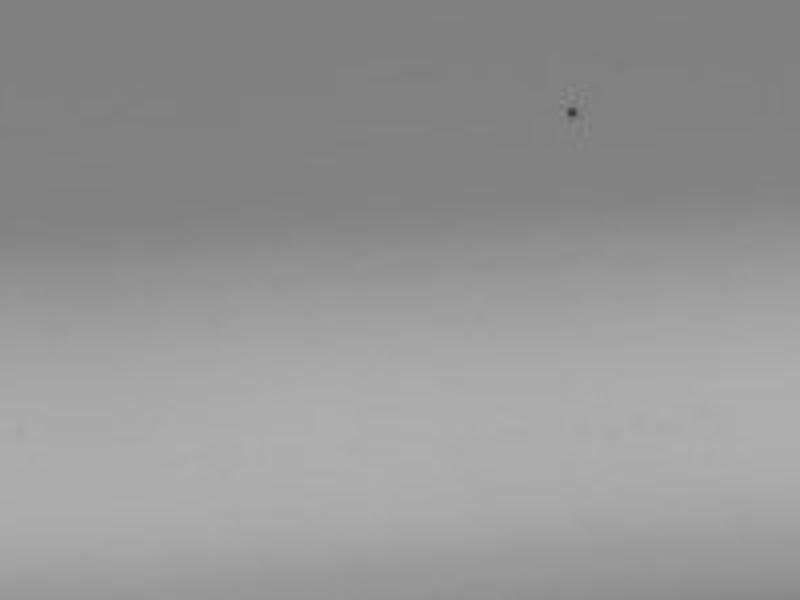defect: (563, 105, 584, 125)
